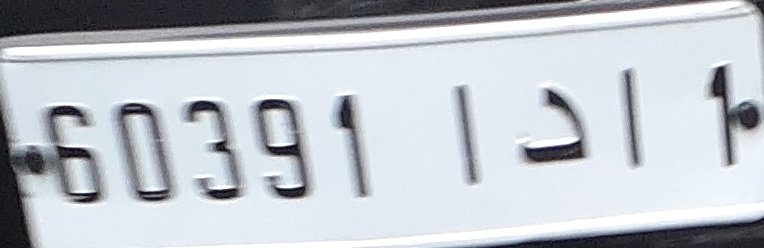0: (115, 104, 175, 204)
1: (332, 95, 372, 199), (705, 62, 739, 168)
3: (183, 99, 246, 203)
6: (44, 104, 102, 203)
9: (254, 98, 311, 200)
d: (515, 88, 591, 165)
